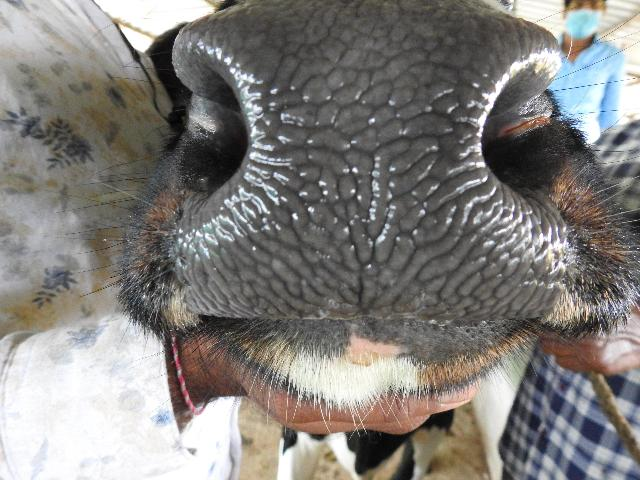Muzzle: (235, 13, 482, 315)
